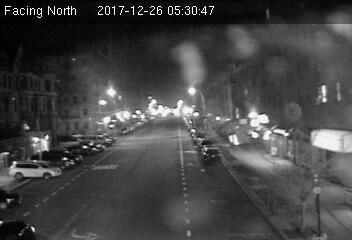car: (199, 144, 223, 164)
